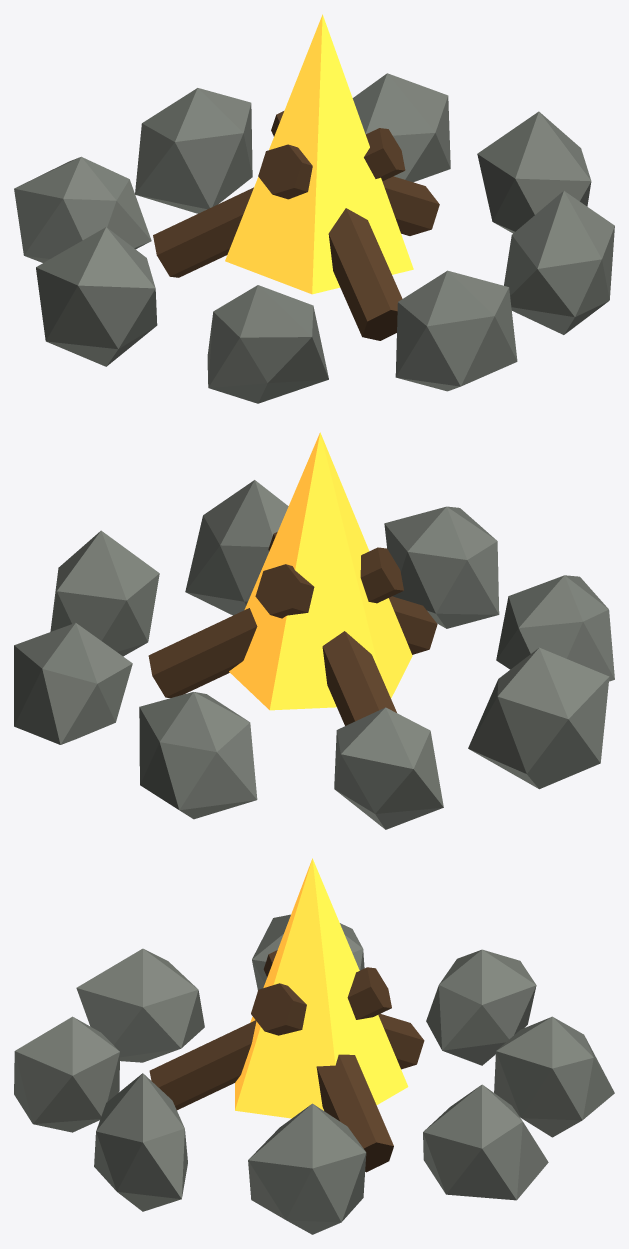
Rendered from campfire.glb.
3 renders of one model, top to bottom at view 1: azimuth 30°, elevation 25°; view 2: azimuth 150°, elevation 25°; view 3: azimuth 270°, elevation 25°, orthographic. The views are drawn at different scales.
Visible parts, largest first — view 1: campfire; view 2: campfire; view 3: campfire.
Boxes of the visible parts, <box> form: campfire: <box>14,14,614,403</box>; campfire: <box>14,432,614,829</box>; campfire: <box>14,858,614,1234</box>.
Size of the model in its own units: 2.35 by 1.26 by 2.38.
